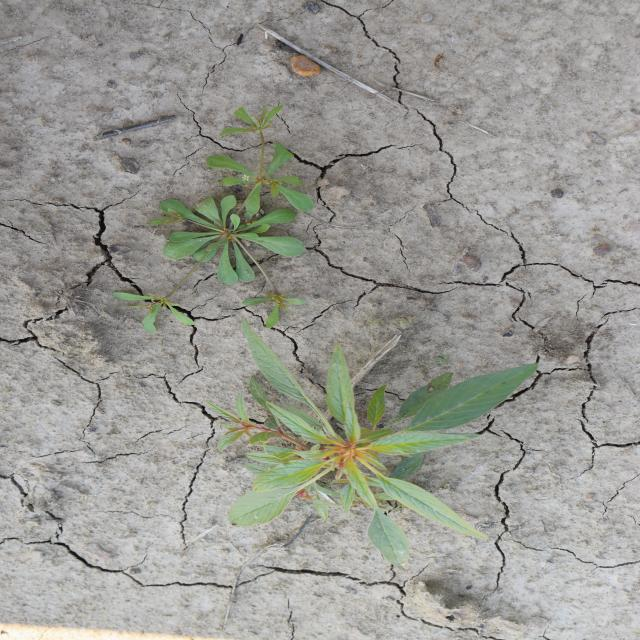Carpetweed: (109, 101, 321, 338)
Waterhemp: (204, 311, 544, 569)
